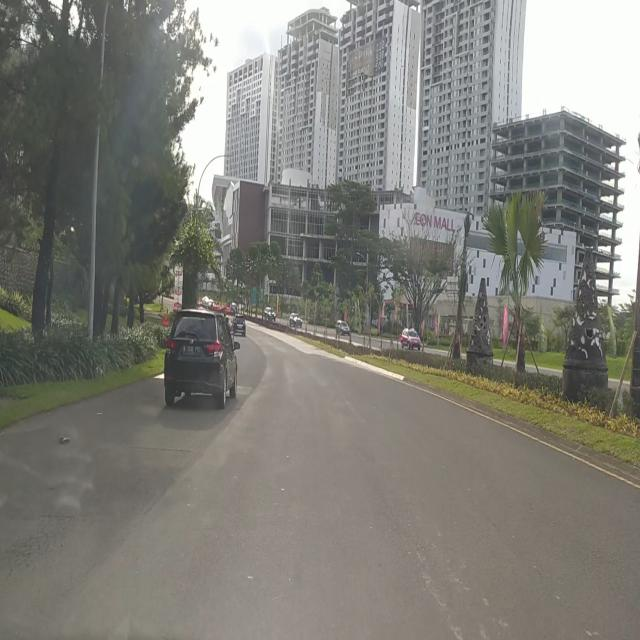Drain Hole: (0, 519, 73, 588)
